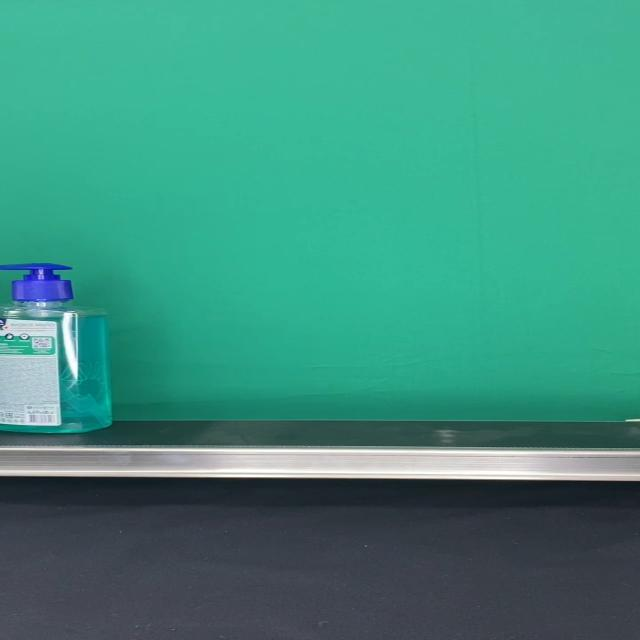Bottle: (0, 262, 112, 433)
Cap: (0, 262, 74, 302)
